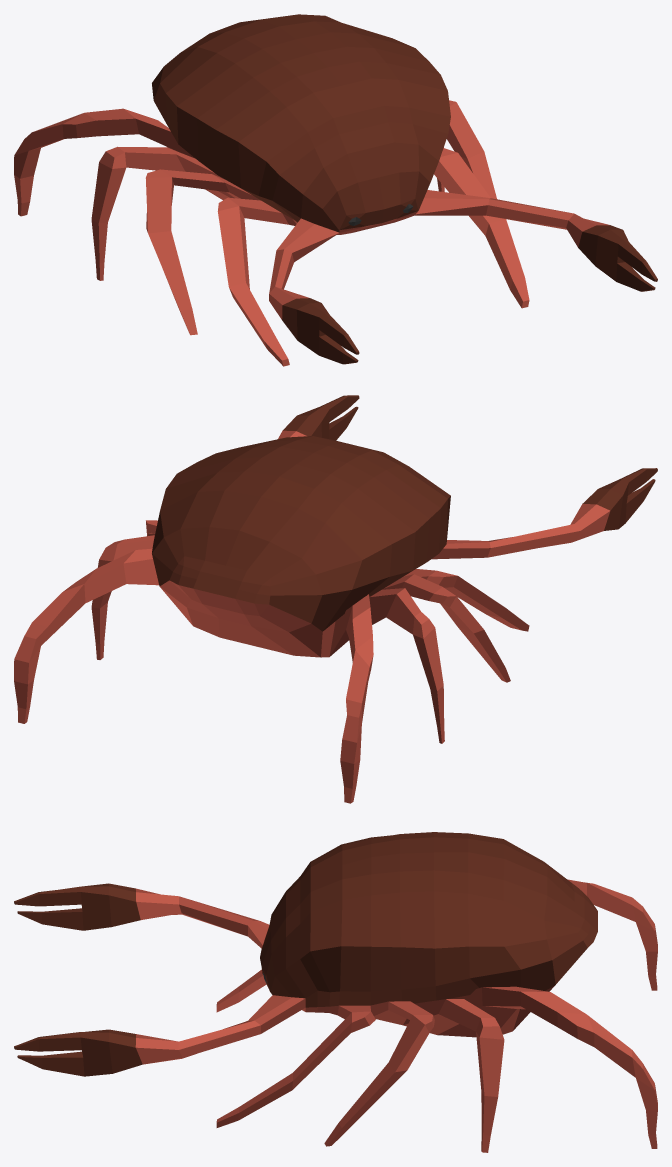
File: crab 1.fbx
3 renders of one model, top to bottom at view 1: azimuth 30°, elevation 25°; view 2: azimuth 150°, elevation 25°; view 3: azimuth 270°, elevation 25°, orthographic.
Visible parts, largest first — view 1: Plane; view 2: Plane; view 3: Plane.
Boxes of the visible parts, <box> form: Plane: <box>14,14,657,366</box>; Plane: <box>14,395,657,803</box>; Plane: <box>14,832,657,1152</box>.
Size of the model in its own units: 240 by 145 by 389.
